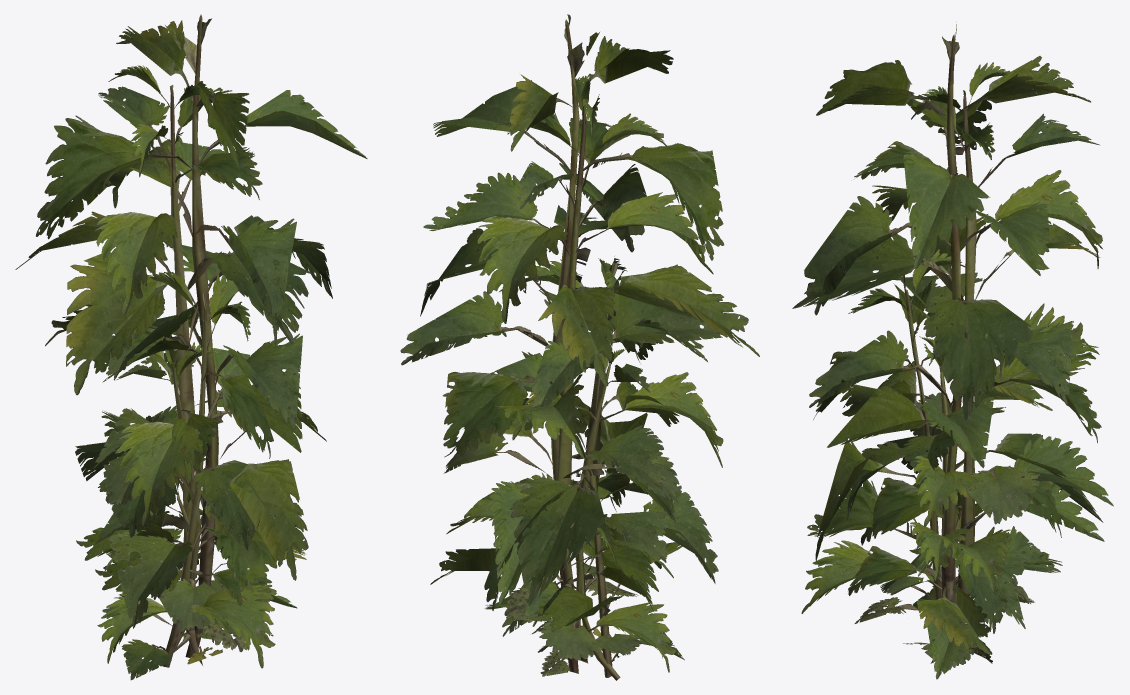
File: ortie.glb
3 renders of one model, left to right at view 1: azimuth 30°, elevation 25°; view 2: azimuth 150°, elevation 25°; view 3: azimuth 270°, elevation 25°, orthographic. The views are drawn at different scales.
Visible parts, largest first — view 1: nettle_plant_tall_a_LOD0, nettle_plant_medium_a_LOD0, nettle_plant_tall_b_LOD0, nettle_plant_medium_b_LOD0, nettle_plant_small_a_LOD0; view 2: nettle_plant_tall_a_LOD0, nettle_plant_tall_b_LOD0, nettle_plant_medium_a_LOD0, nettle_plant_medium_b_LOD0, nettle_plant_small_a_LOD0; view 3: nettle_plant_tall_a_LOD0, nettle_plant_tall_b_LOD0, nettle_plant_medium_a_LOD0, nettle_plant_medium_b_LOD0, nettle_plant_small_a_LOD0.
Part boxes in pixels (bbox=[...]): nettle_plant_tall_a_LOD0: bbox=[36, 14, 367, 657]; nettle_plant_medium_a_LOD0: bbox=[75, 272, 308, 680]; nettle_plant_tall_b_LOD0: bbox=[15, 65, 311, 665]; nettle_plant_medium_b_LOD0: bbox=[95, 342, 290, 650]; nettle_plant_small_a_LOD0: bbox=[97, 475, 297, 664]; nettle_plant_tall_a_LOD0: bbox=[420, 14, 759, 673]; nettle_plant_tall_b_LOD0: bbox=[400, 73, 722, 663]; nettle_plant_medium_a_LOD0: bbox=[442, 256, 723, 677]; nettle_plant_medium_b_LOD0: bbox=[482, 348, 679, 680]; nettle_plant_small_a_LOD0: bbox=[484, 479, 675, 676]; nettle_plant_tall_a_LOD0: bbox=[804, 24, 1104, 665]; nettle_plant_tall_b_LOD0: bbox=[792, 62, 1113, 663]; nettle_plant_medium_a_LOD0: bbox=[801, 249, 1103, 669]; nettle_plant_medium_b_LOD0: bbox=[847, 336, 1061, 651]; nettle_plant_small_a_LOD0: bbox=[880, 491, 1025, 679].
Size of the model in its own units: 0.1031 by 0.2042 by 0.0947.
1 material, 1 textured.
